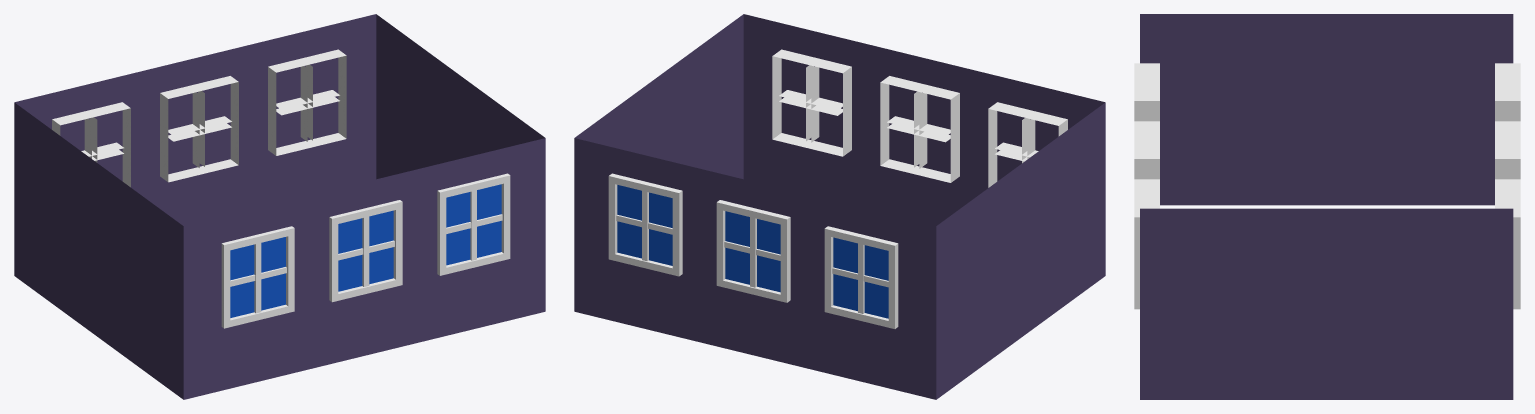
File: CityBuildingB_03_flooor.fbx
3 views of the same model, side by side, from view 1: azimuth 30°, elevation 25°; view 2: azimuth 150°, elevation 25°; view 3: azimuth 270°, elevation 25° (orthographic). The views are drawn at different scales.
Visible parts, largest first — view 1: CityBuildingB_03_flooor; view 2: CityBuildingB_03_flooor; view 3: CityBuildingB_03_flooor.
Part boxes in pixels (bbox=[...]): CityBuildingB_03_flooor: bbox=[14, 14, 545, 399]; CityBuildingB_03_flooor: bbox=[574, 14, 1105, 399]; CityBuildingB_03_flooor: bbox=[1134, 14, 1520, 399].
Bounding box in the file's own units: 0.6706 × 0.3075 × 0.563.
